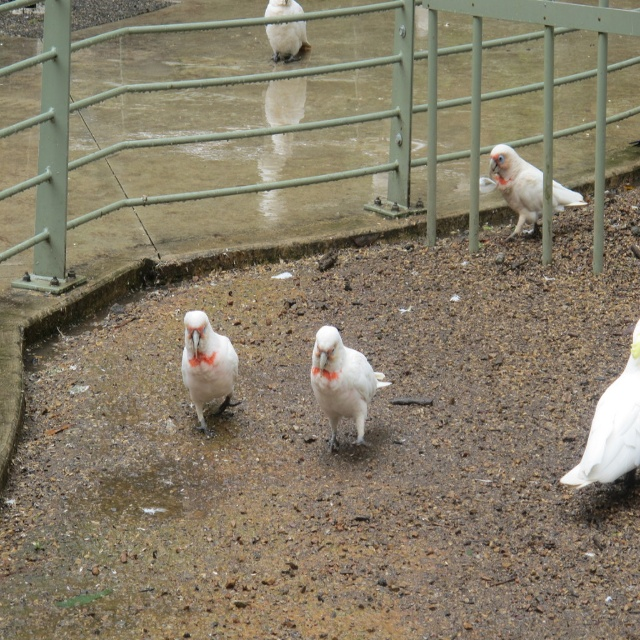Parrot: (302, 324, 391, 454), (486, 137, 592, 243), (176, 311, 242, 433), (264, 2, 309, 61)
